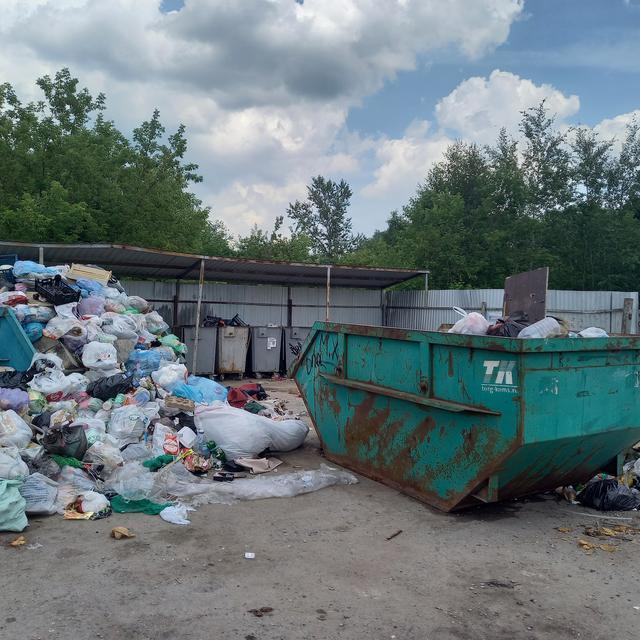Trash_Can_Empty: (180, 326, 216, 375), (251, 325, 283, 372), (285, 326, 313, 376)
Trash_Can_Full: (291, 265, 638, 510), (217, 312, 249, 373)
